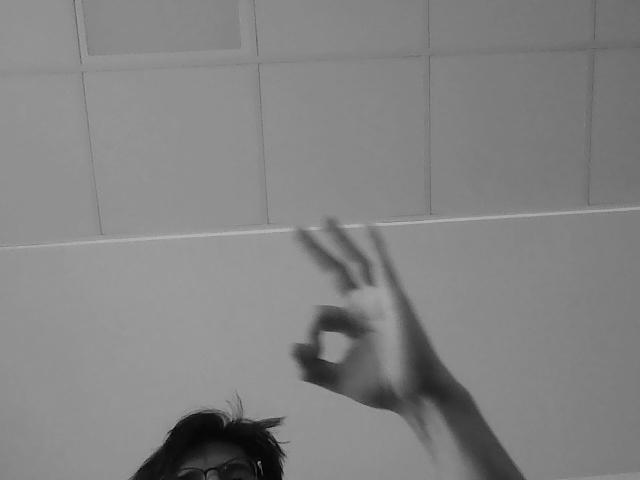OK: (289, 215, 451, 410)
